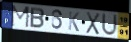6: (51, 9, 64, 31)
B: (29, 6, 46, 30)
K: (68, 10, 81, 33)
M: (10, 5, 32, 30)
U: (101, 12, 119, 37)
X: (85, 11, 101, 36)
